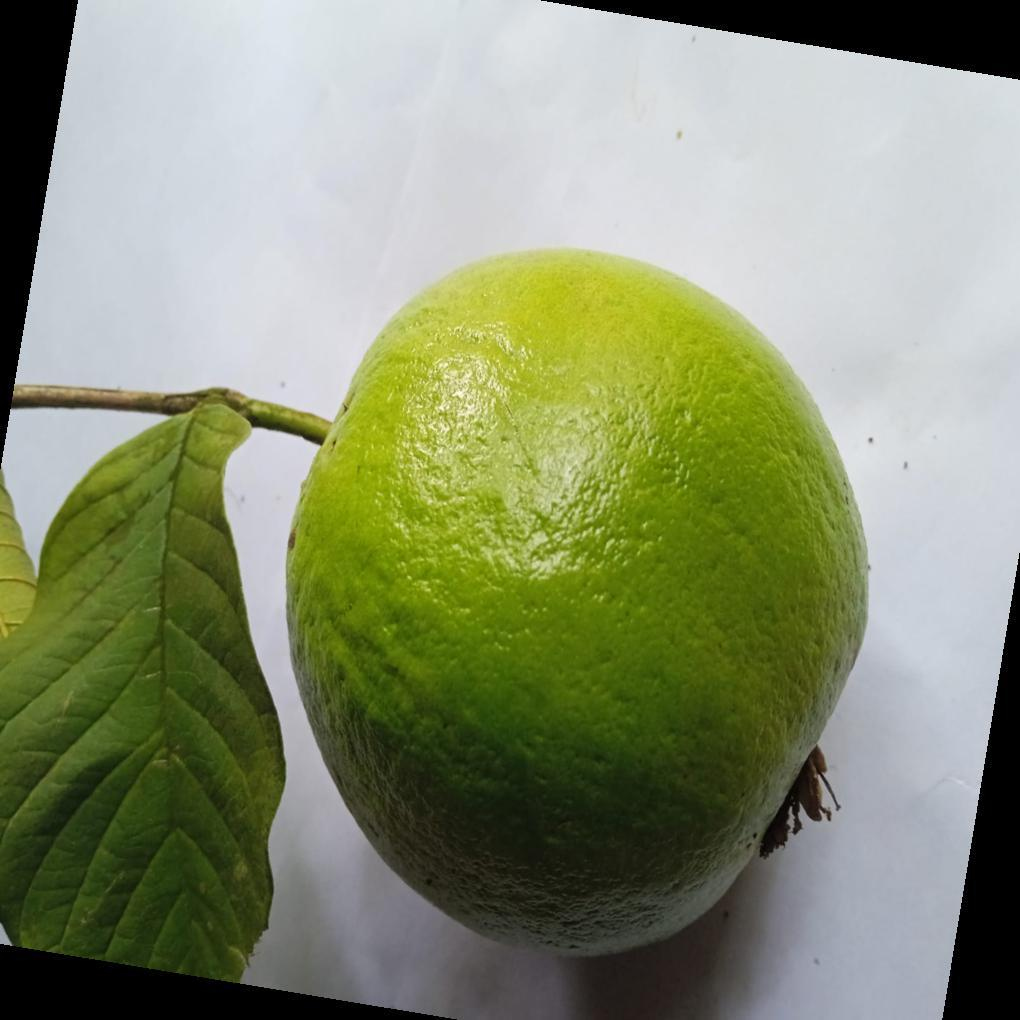FreshGuava: (285, 249, 872, 963)
